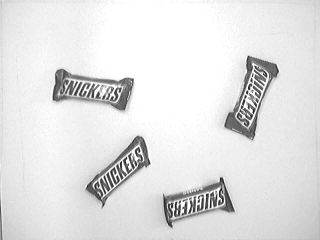Snickers: (82, 132, 156, 211), (222, 53, 281, 142), (160, 174, 239, 230), (50, 66, 137, 114)
